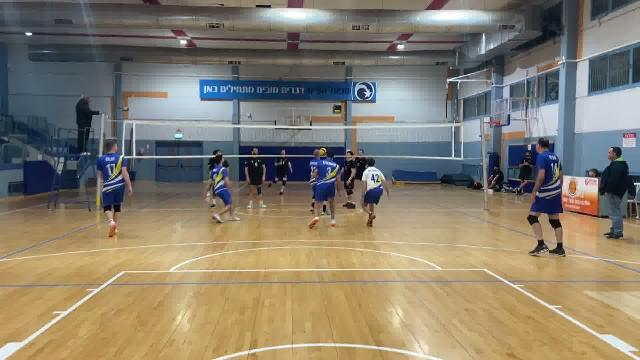ball: (317, 147, 329, 157)
